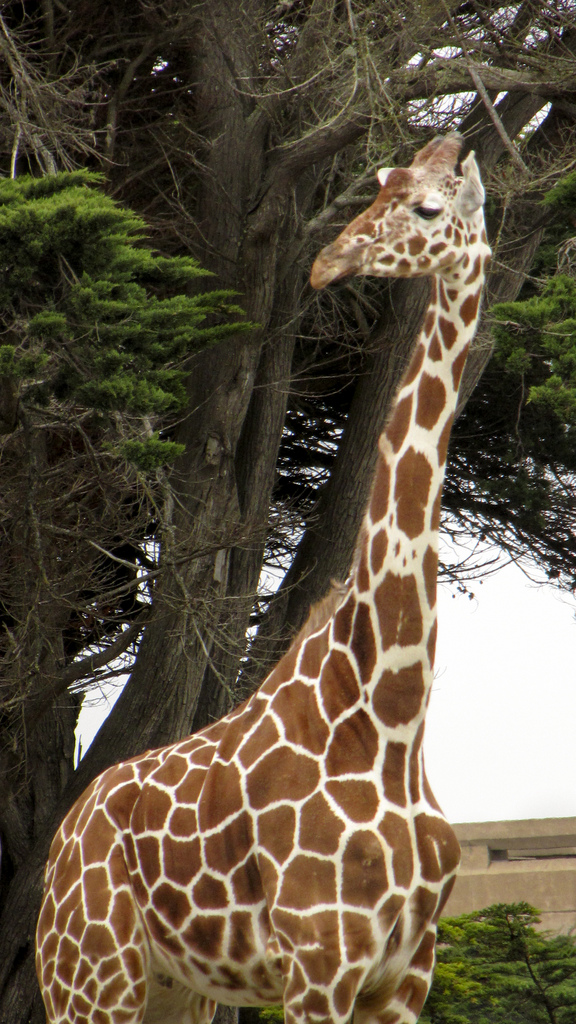giraffe: (70, 111, 530, 996)
